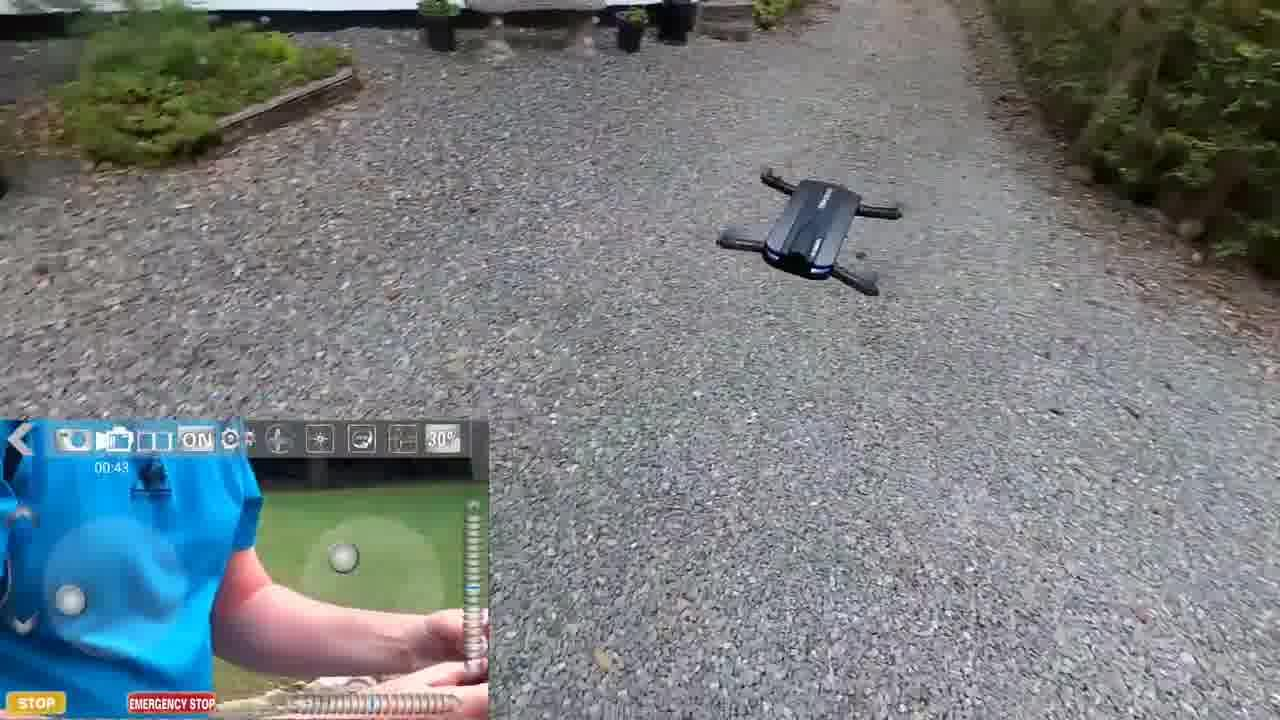drone: (702, 134, 924, 314)
